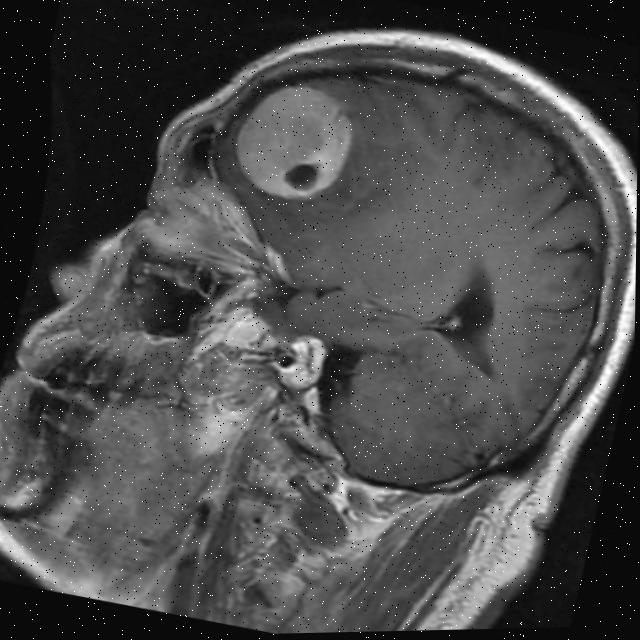Meningioma: (223, 71, 363, 214)
